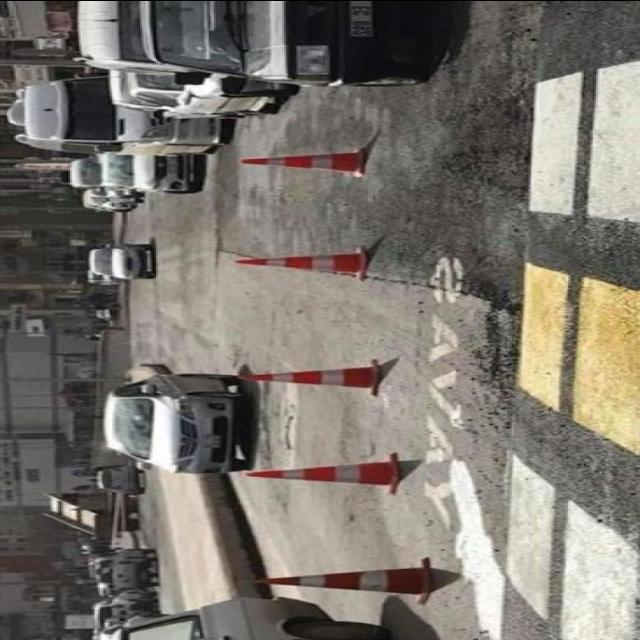speedbreaker: (500, 8, 640, 640)
